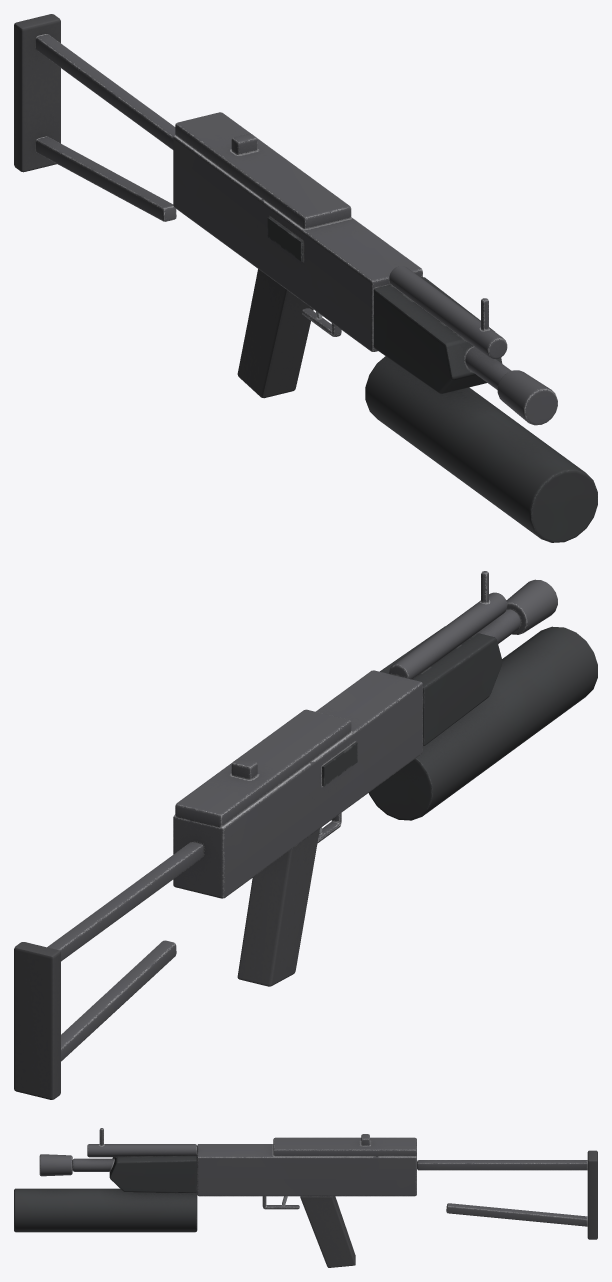
Rendered from bizon.fbx.
The picture shows the model from 3 angles, top to bottom: view 1: azimuth 30°, elevation 25°; view 2: azimuth 150°, elevation 25°; view 3: azimuth 270°, elevation 25°; orthographic projection. The views are drawn at different scales.
Visible parts, largest first — view 1: bizon; view 2: bizon; view 3: bizon.
Part boxes in pixels (x1,y1,x2,y2): bizon: (14,14,597,542); bizon: (14,571,597,1099); bizon: (14,1128,597,1267).
Size of the model in its own units: 0.0591 by 0.2045 by 0.797.
